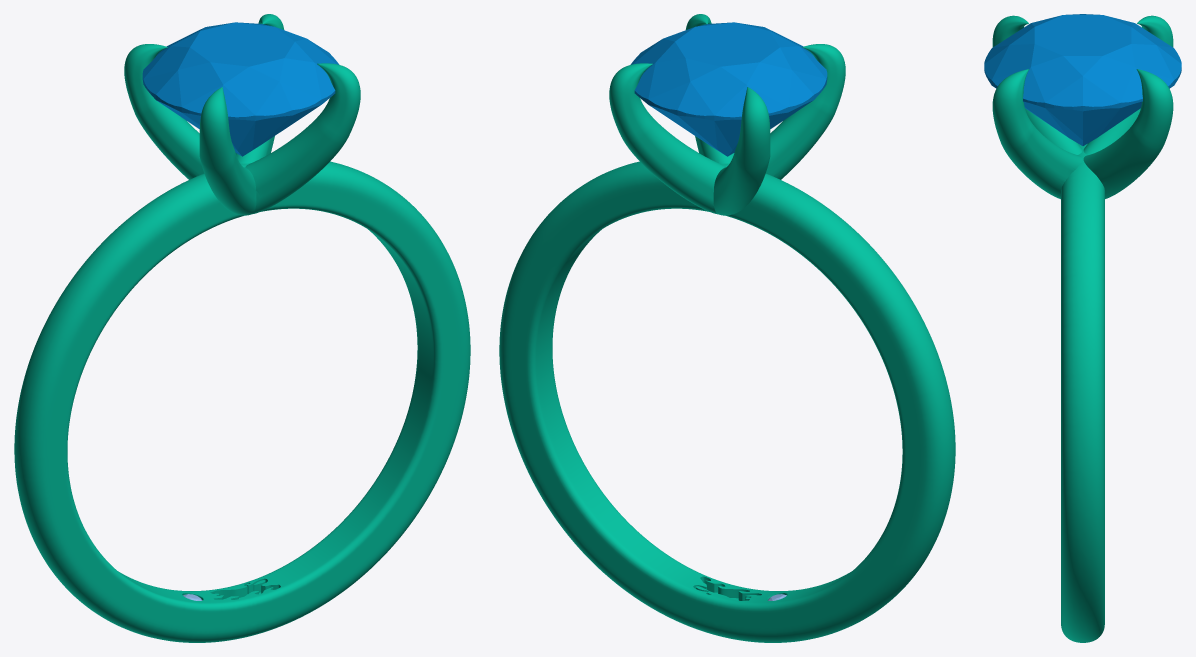
The model's file is ring2.glb.
3 renders of one model, left to right at view 1: azimuth 30°, elevation 25°; view 2: azimuth 150°, elevation 25°; view 3: azimuth 270°, elevation 25°, orthographic.
Visible parts, largest first — view 1: gold.3dm, Diamond_Round; view 2: gold.3dm, Diamond_Round; view 3: gold.3dm, Diamond_Round.
Boxes of the visible parts, x1,y1,x2,y2 form: gold.3dm: (14,14,470,642); Diamond_Round: (142,22,339,156); gold.3dm: (499,14,955,642); Diamond_Round: (630,22,827,156); gold.3dm: (992,15,1173,642); Diamond_Round: (984,14,1181,145).
Bounding box in the file's own units: 2.42 × 3.04 × 0.934.
